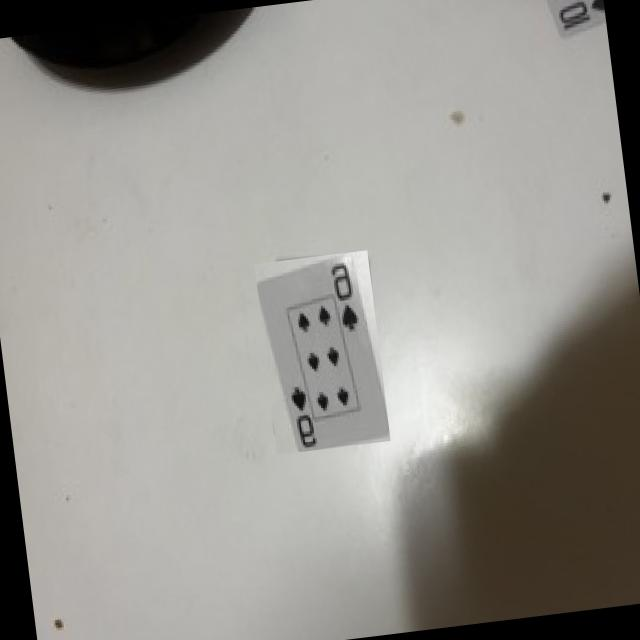6 of spades: (257, 251, 389, 450)
